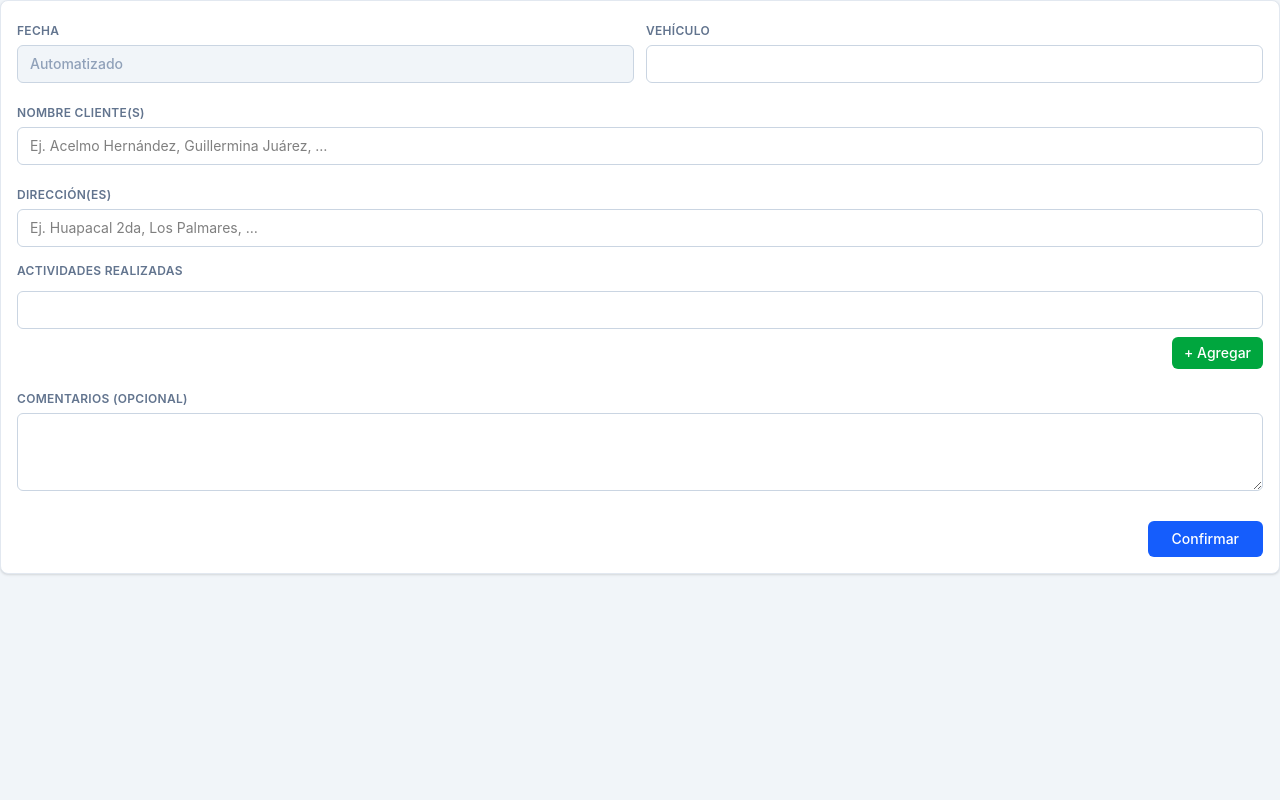
Test: ActividadesFormulario — validación de forma (RF-5/RF-6/RF-7) › los errores se limpian al volver a escribir
This screenshot has width=1280, height=800.
Click the button "Confirmar" at [1205, 539], box 1148,521 -> 1263,557
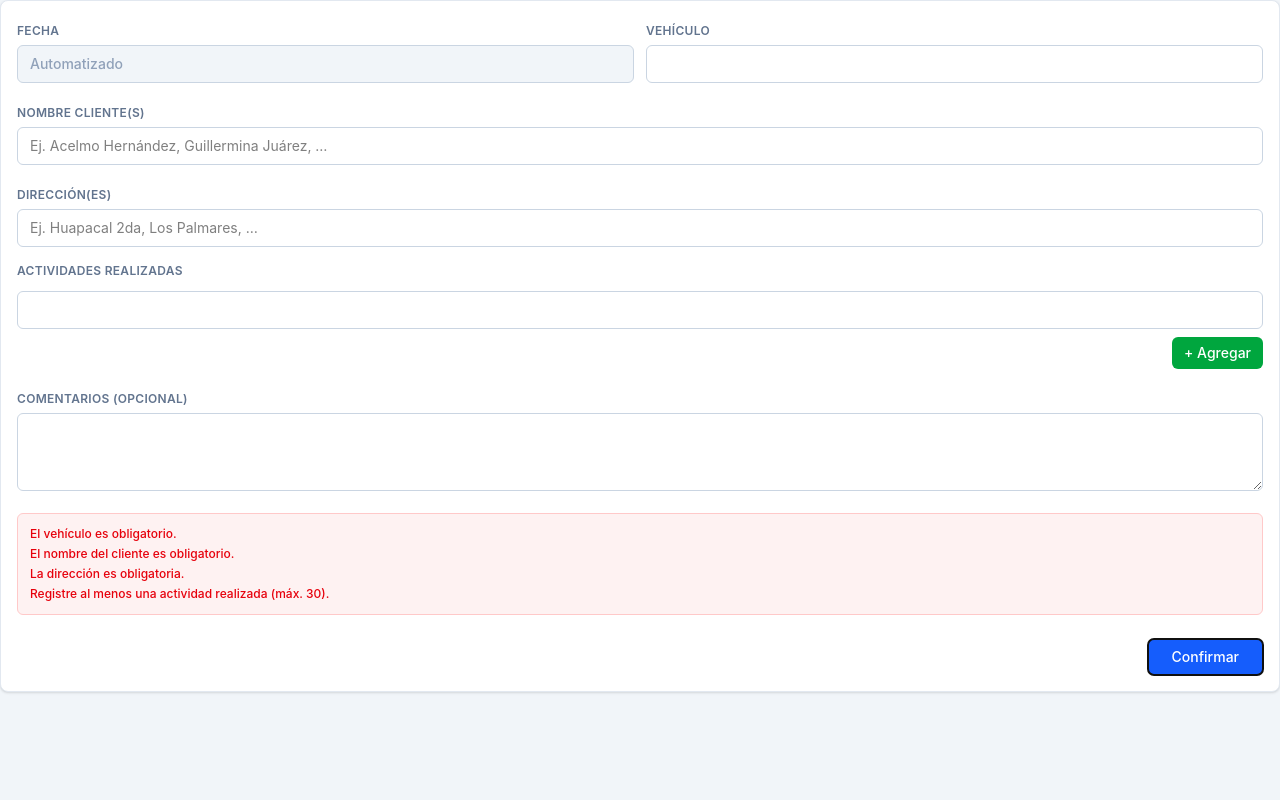
Check: the message "El vehículo es obligatorio." is shown, box 30,526 -> 177,541
Type "C" into the field labelled "Vehículo" at [954, 64], box 646,45 -> 1263,83
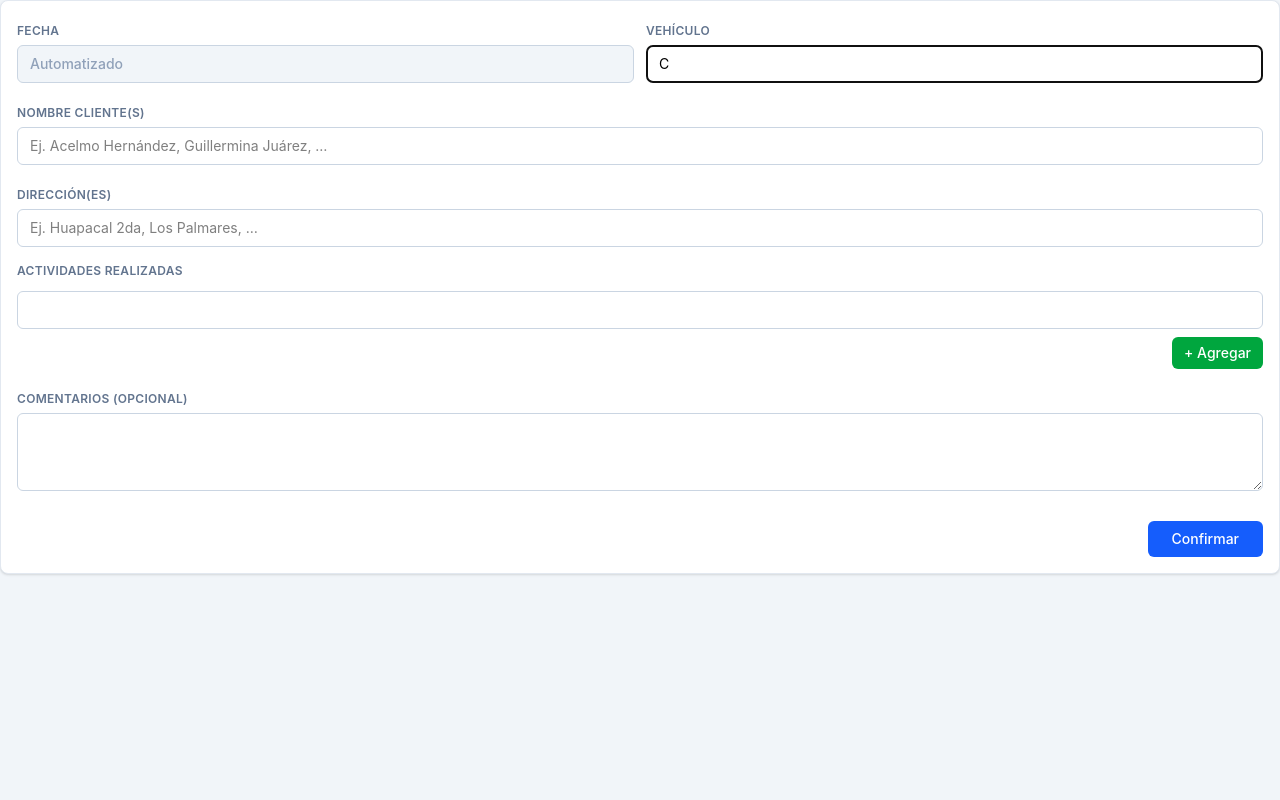
Check: no messages are shown
